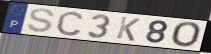3: (87, 13, 112, 40)
8: (145, 19, 169, 44)
C: (55, 10, 86, 37)
K: (114, 16, 142, 43)
O: (171, 21, 204, 49)
S: (25, 8, 57, 34)
